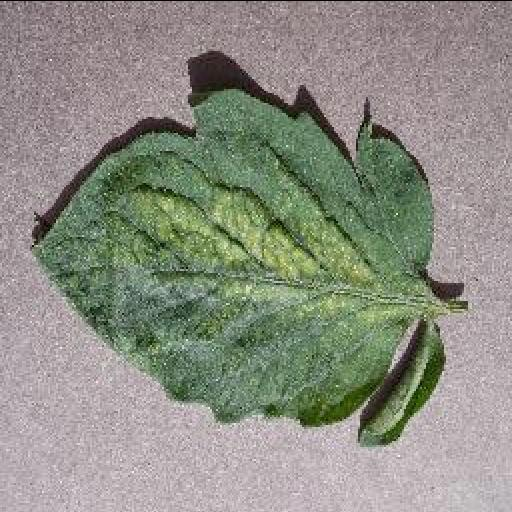disease_tomato: (31, 88, 437, 426)
